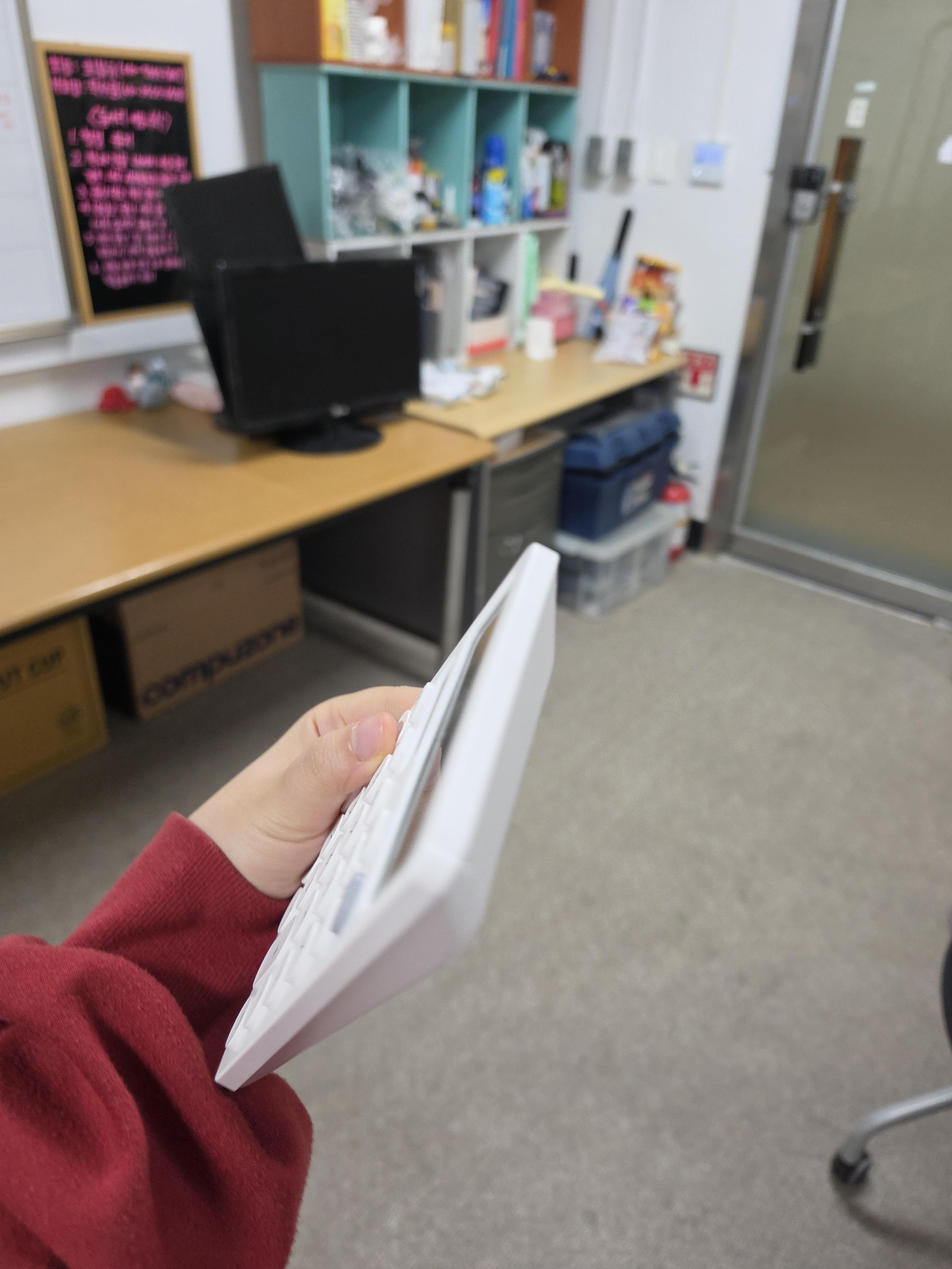calculator: (215, 542, 560, 1092)
